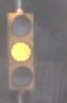Yellow: (5, 6, 41, 100)
